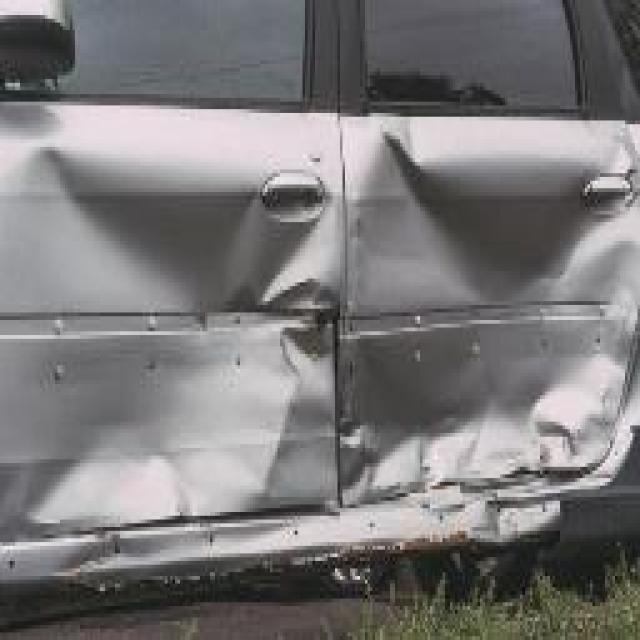Door: (0, 98, 335, 568), (342, 124, 638, 535)
